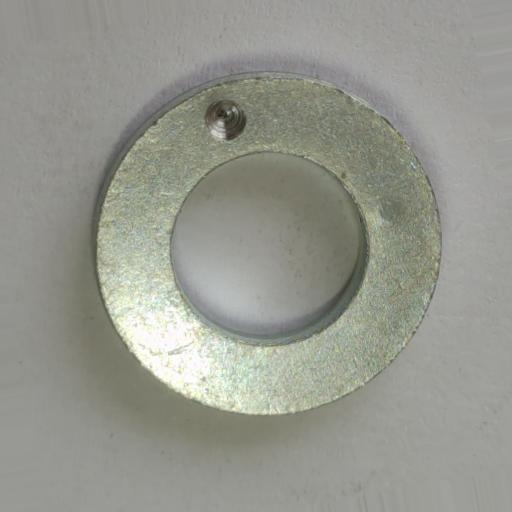circular_cavity: (204, 99, 247, 141)
